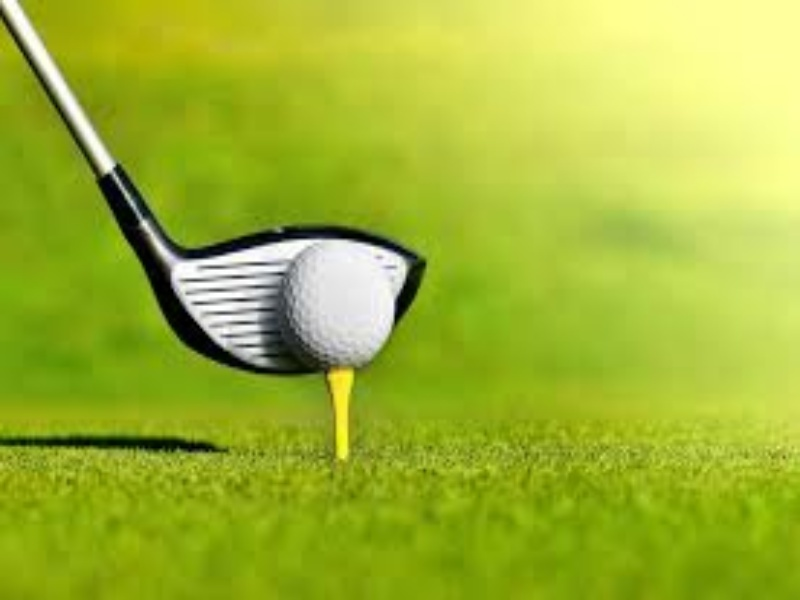golf_ball: (280, 242, 393, 370)
